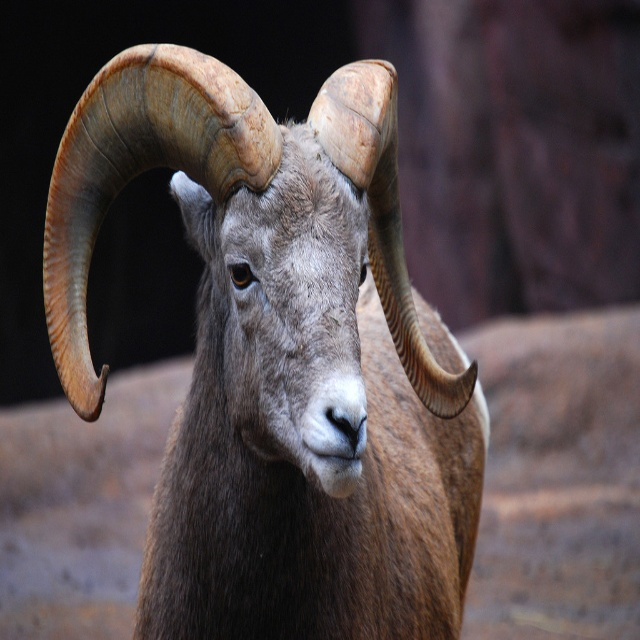Goat: (42, 43, 490, 640)
